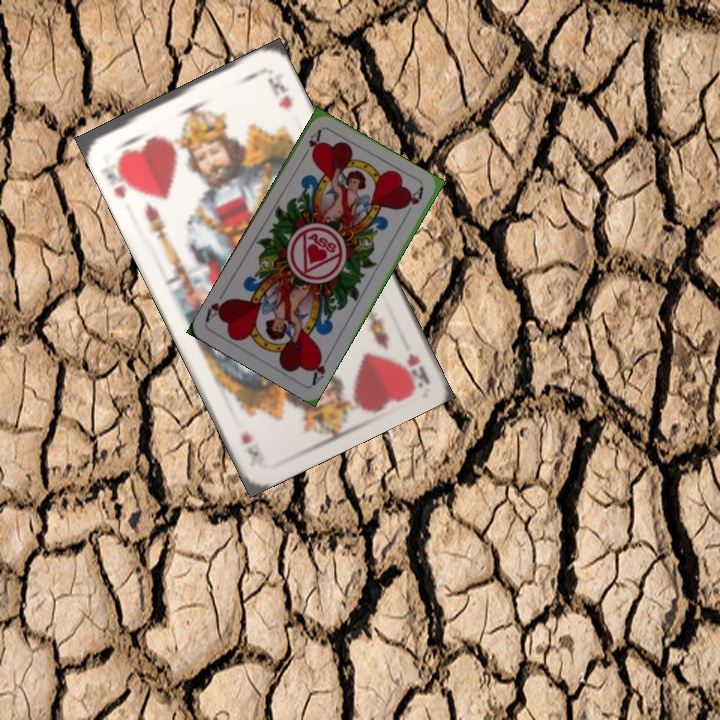HA: (297, 126, 324, 163), (308, 349, 333, 387)
HK: (102, 153, 138, 201), (400, 349, 432, 388)
